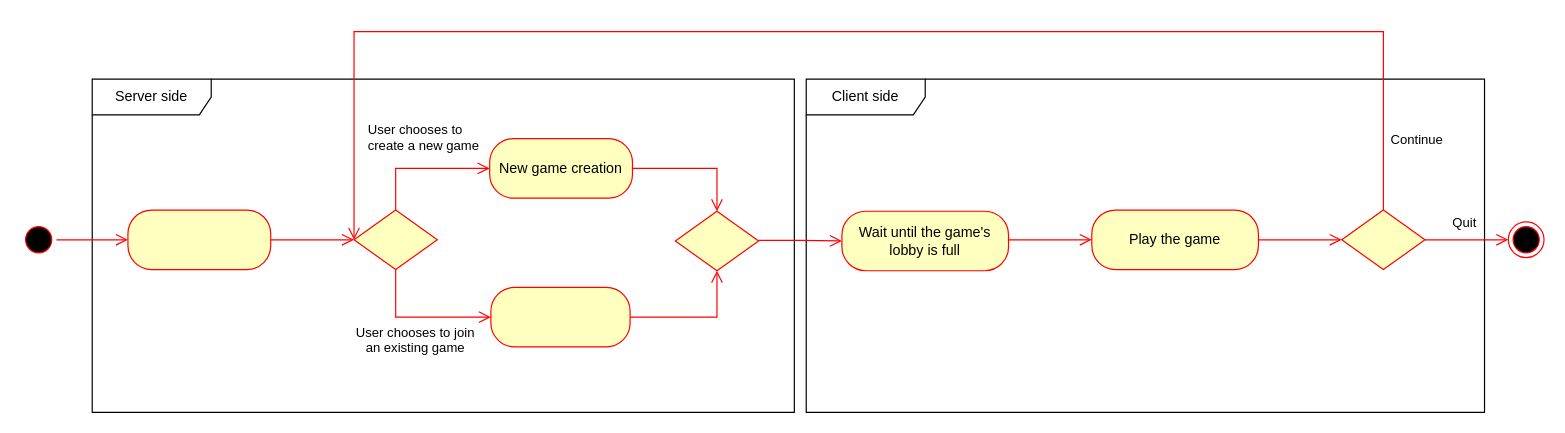
Image size: 1565x433. Some labels were removed from this diagram. Each missing label, with the centre of its shape:
Subscription of a user: (x=199, y=239)
Update game's lobby: (x=560, y=316)
